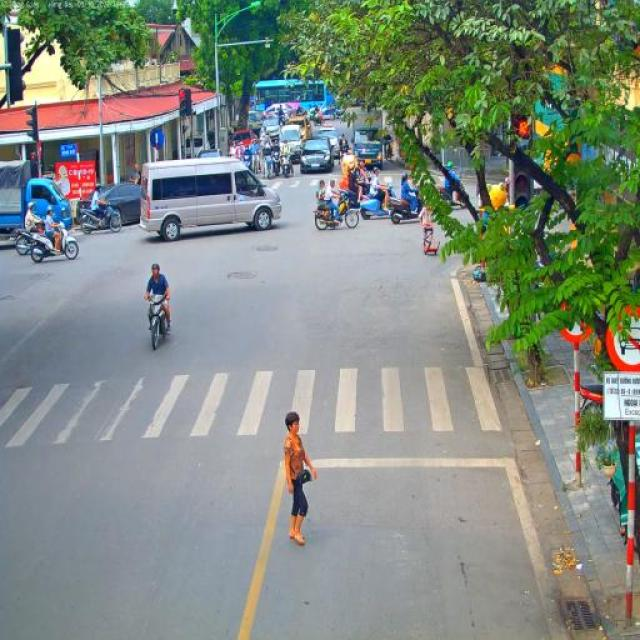bus: (138, 156, 282, 242), (250, 77, 336, 116)
car: (99, 182, 142, 224), (300, 137, 334, 174), (280, 125, 304, 164), (316, 124, 340, 160), (285, 116, 311, 149), (232, 130, 258, 156), (260, 119, 280, 149), (195, 150, 223, 160), (262, 113, 280, 123)
motorcycle: (29, 224, 80, 264), (313, 196, 361, 232), (78, 200, 122, 235), (145, 292, 170, 351), (358, 186, 398, 220), (16, 221, 46, 255), (388, 196, 422, 224), (437, 180, 469, 208), (340, 181, 371, 208), (262, 155, 273, 179), (282, 150, 292, 175), (383, 138, 393, 162), (272, 157, 282, 177), (243, 153, 252, 171), (311, 114, 323, 126), (252, 154, 259, 174), (234, 150, 244, 160), (337, 148, 342, 168), (279, 116, 287, 128)
truck: (0, 160, 74, 245), (351, 111, 384, 171), (248, 111, 262, 138)
